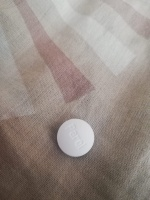Parol: (55, 117, 97, 159)
